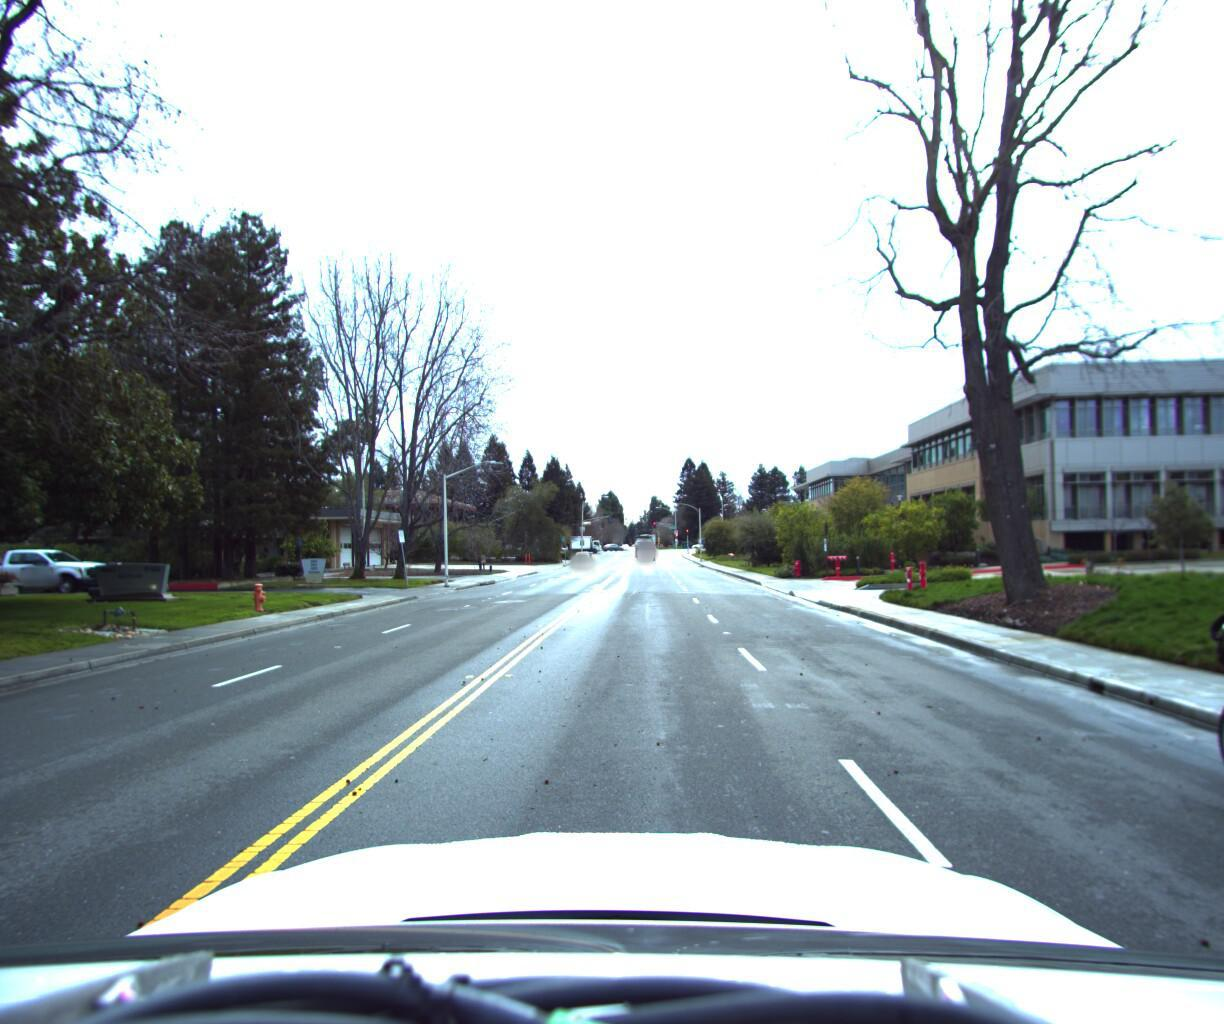bicycle: (1145, 504, 1224, 871)
